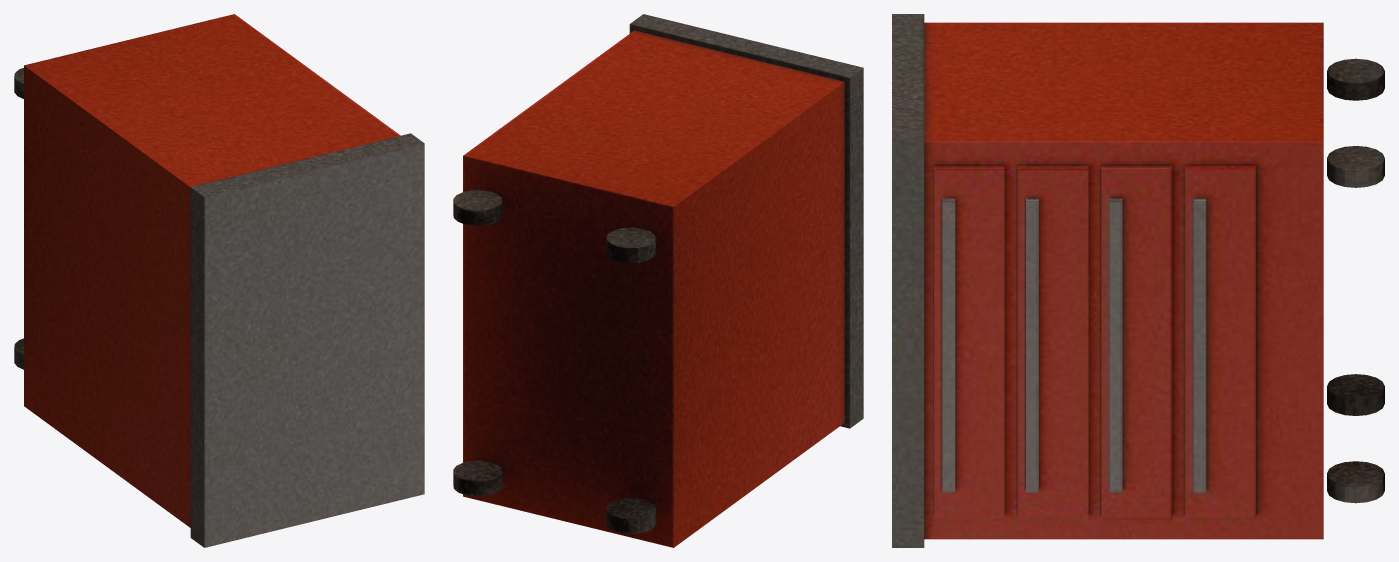
3 views of the same model, side by side, from view 1: azimuth 30°, elevation 25°; view 2: azimuth 150°, elevation 25°; view 3: azimuth 270°, elevation 25° (orthographic). The views are drawn at different scales.
Parts seen in each view (by area): view 1: A4_final.001; view 2: A4_final.001; view 3: A4_final.001.
Part boxes in pixels (bbox=[...]): A4_final.001: bbox=[14, 14, 424, 547]; A4_final.001: bbox=[453, 14, 863, 547]; A4_final.001: bbox=[892, 14, 1384, 547].
Size of the model in its own units: 0.471 by 0.7 by 0.765.
Materials: 1 (1 with a texture image).
